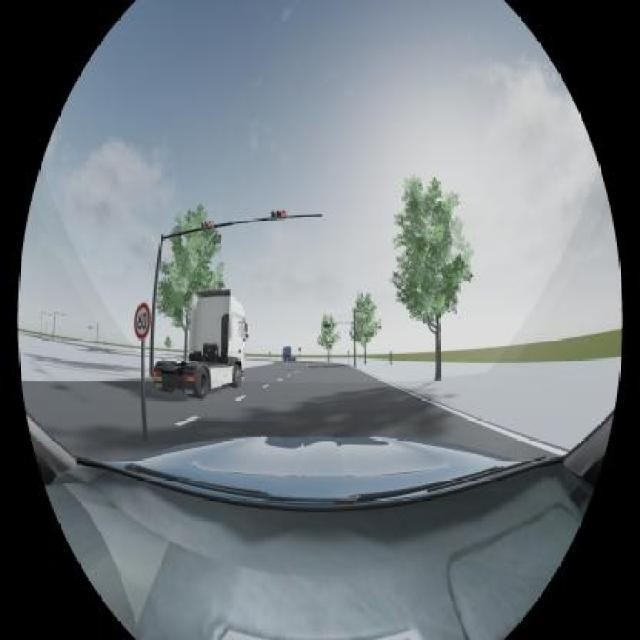forb_speed_over_60: (134, 304, 149, 338)
